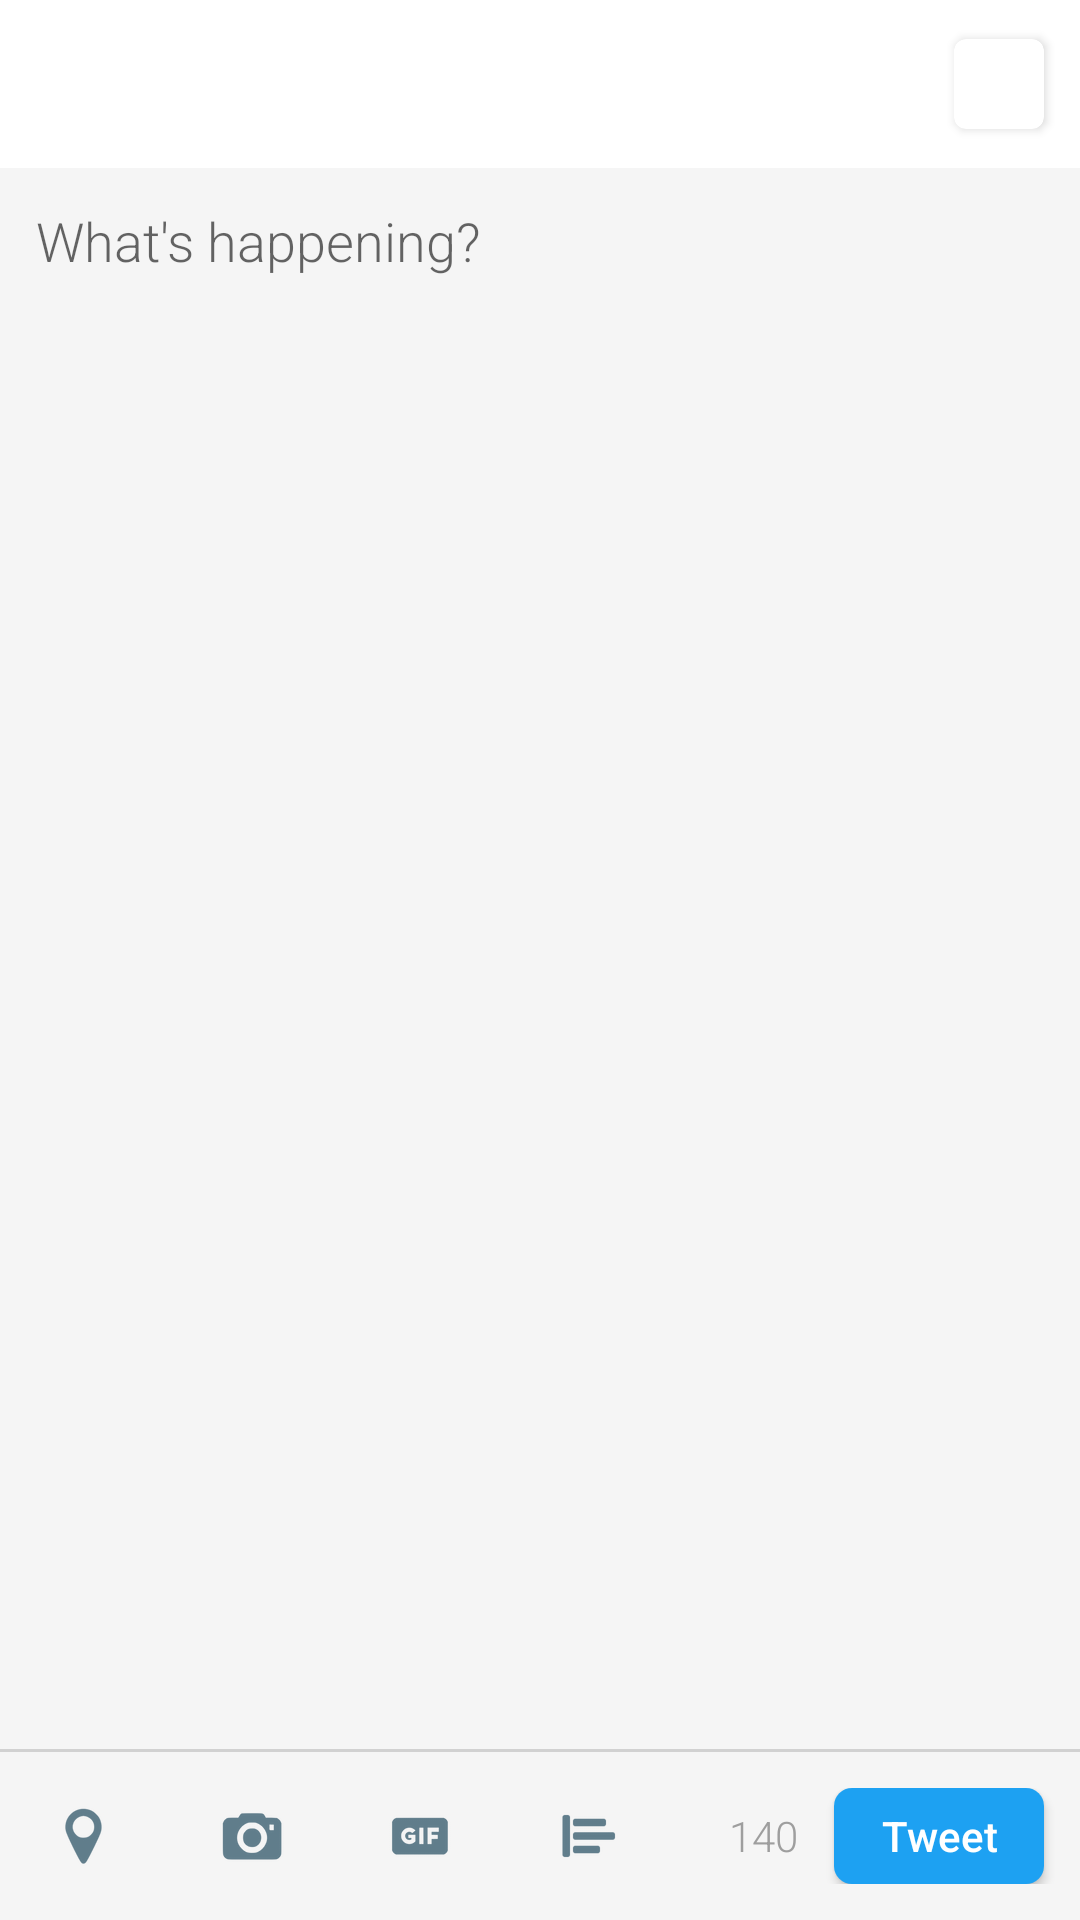

Icons on this 1080px×1920px Android screen, each with the point to tap as (x,y):
camera: (252,1836)
location: (83,1836)
poll: (588,1836)
